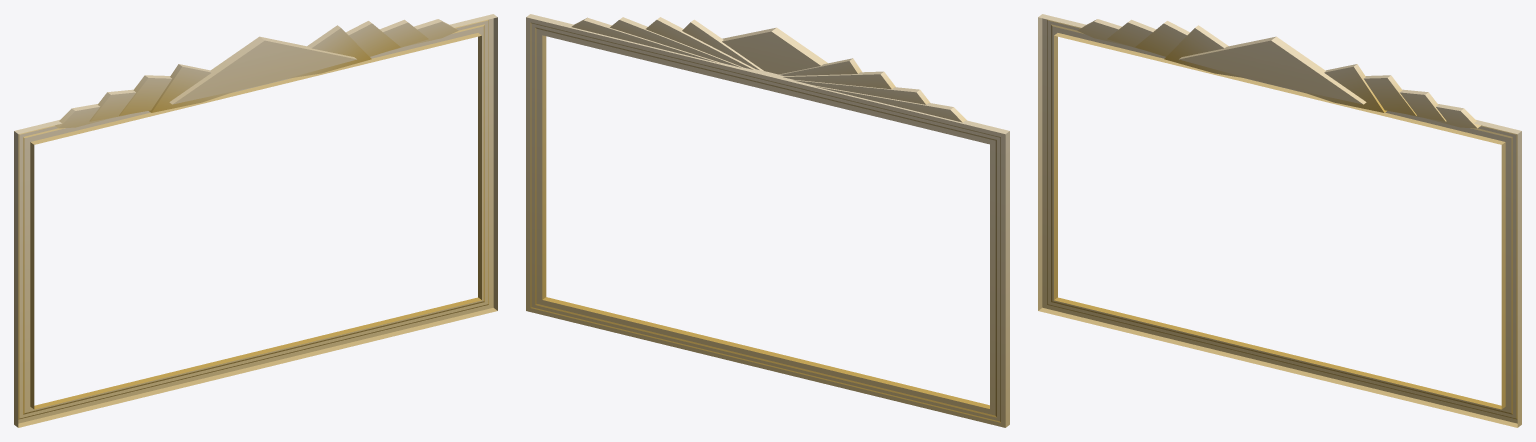
The model's file is M_Frame.fbx.
3 views of the same model, side by side, from view 1: azimuth 30°, elevation 25°; view 2: azimuth 150°, elevation 25°; view 3: azimuth 330°, elevation 25° (orthographic).
Visible parts, largest first — view 1: M_Frame; view 2: M_Frame; view 3: M_Frame.
Part boxes in pixels (left/top/right/bottom): M_Frame: left=14, top=14, right=497, bottom=427; M_Frame: left=526, top=14, right=1009, bottom=427; M_Frame: left=1038, top=14, right=1521, bottom=427.
Size of the model in its own units: 16.98 by 11.3 by 0.6814.
Materials: 1 (1 with a texture image).
